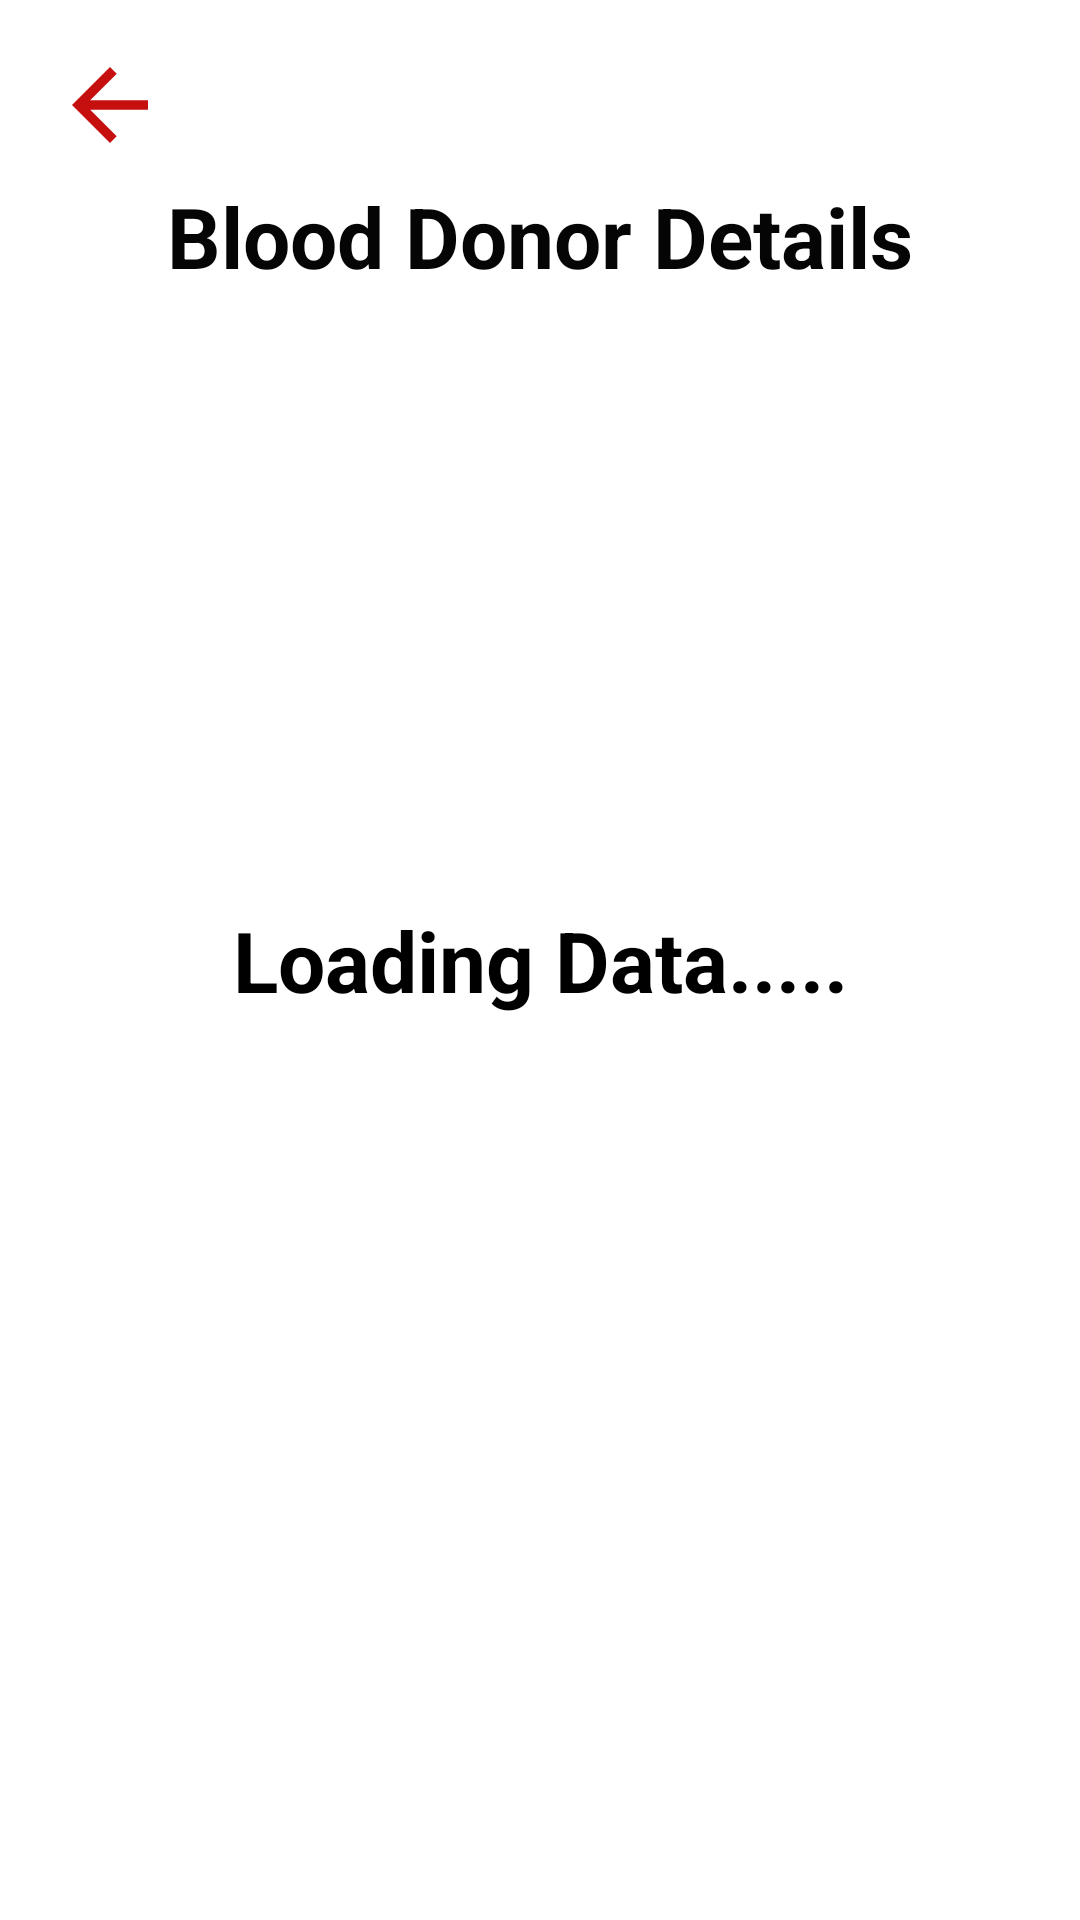

Named icons in this screenshot (1080 × 1920) and their bounding boxes, (x1, y1, x2, y2):
arrow back: (72, 67, 148, 143)
